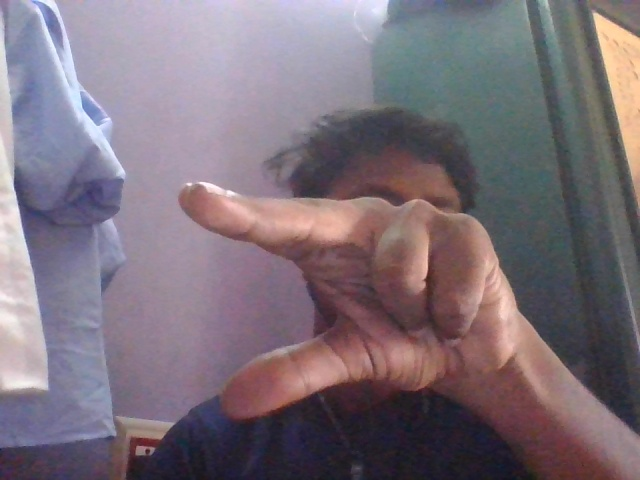no: (176, 157, 545, 427)
